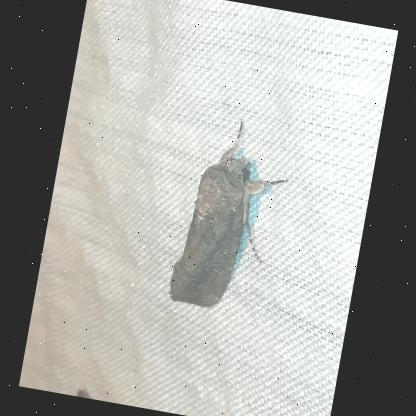Fall Armyworm Moth: (162, 110, 298, 320)
